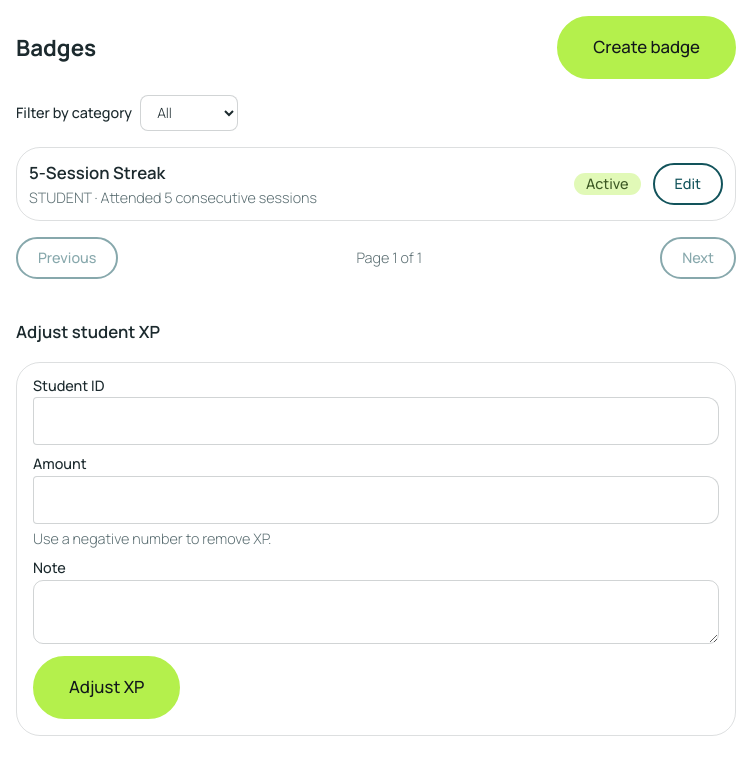
Test: BadgeManagementPage › XP adjustment rejects a zero amount
Type "s1" into the field labelled "Student ID" at (376, 421), box [33, 397, 719, 445]
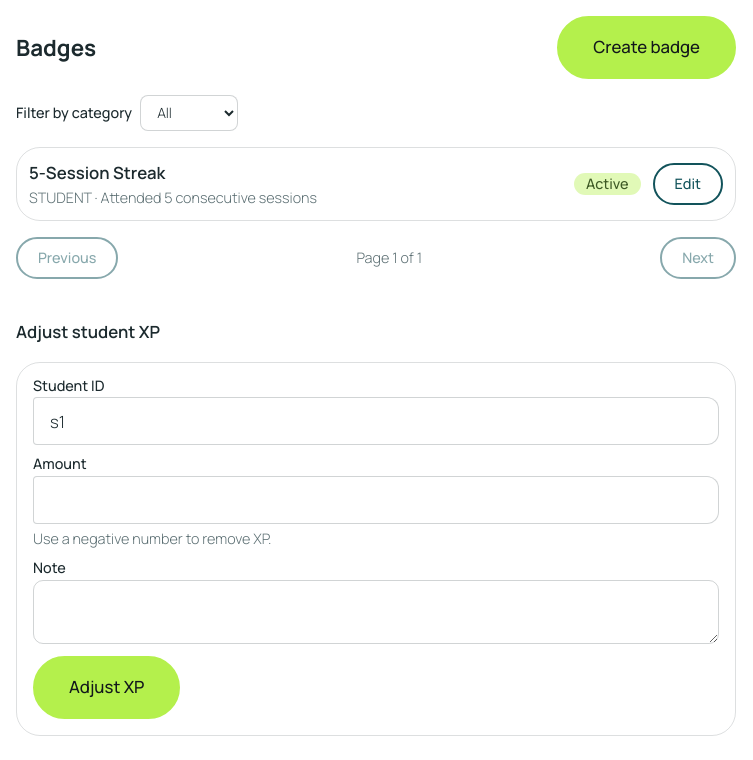
Type "0" into the number field labelled "Amount" at (376, 500), box [33, 476, 719, 524]
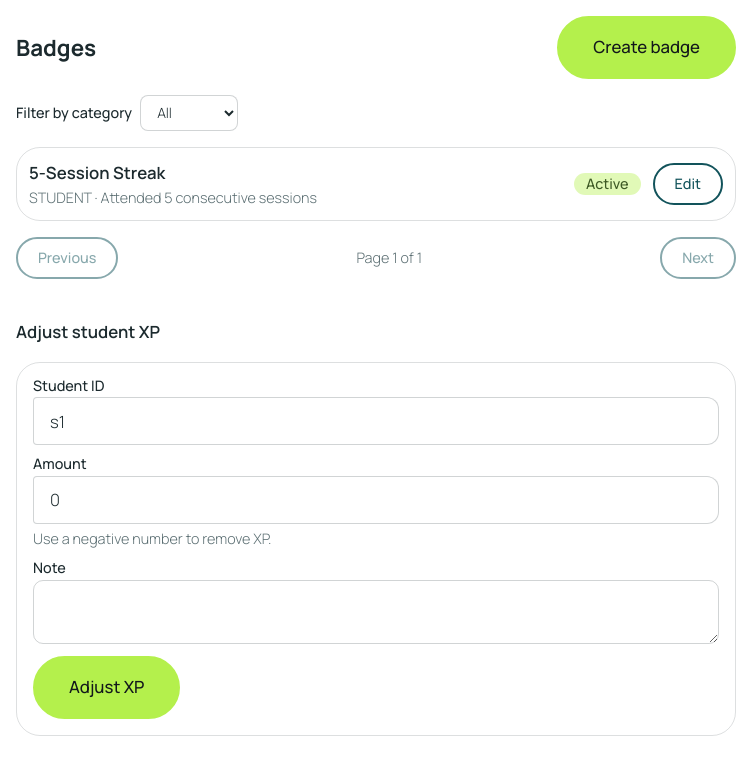
Type "Correction" into the text box labelled "Note" at (376, 612), box [33, 580, 719, 644]
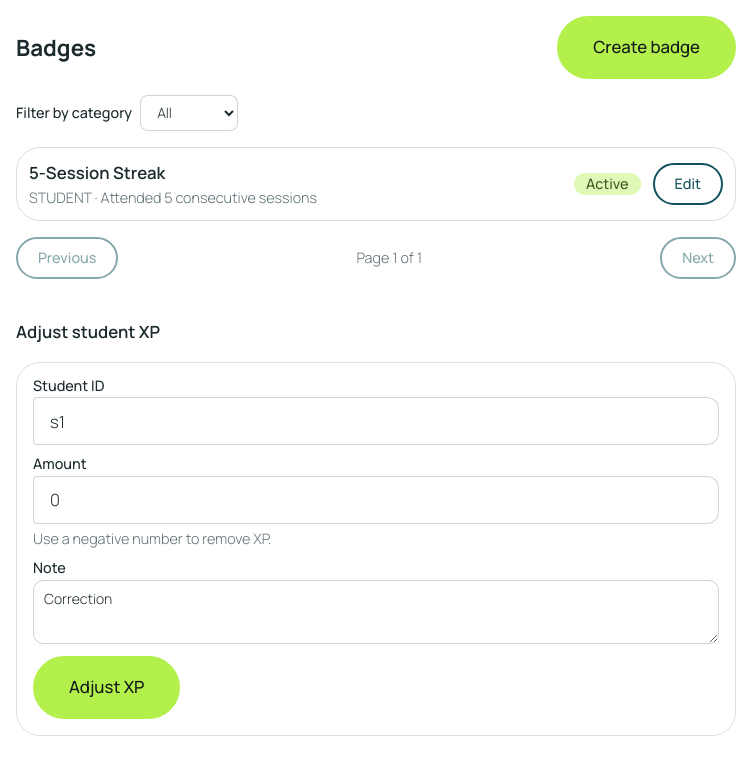
Click the button "Adjust XP" at (107, 687), box [33, 656, 180, 719]
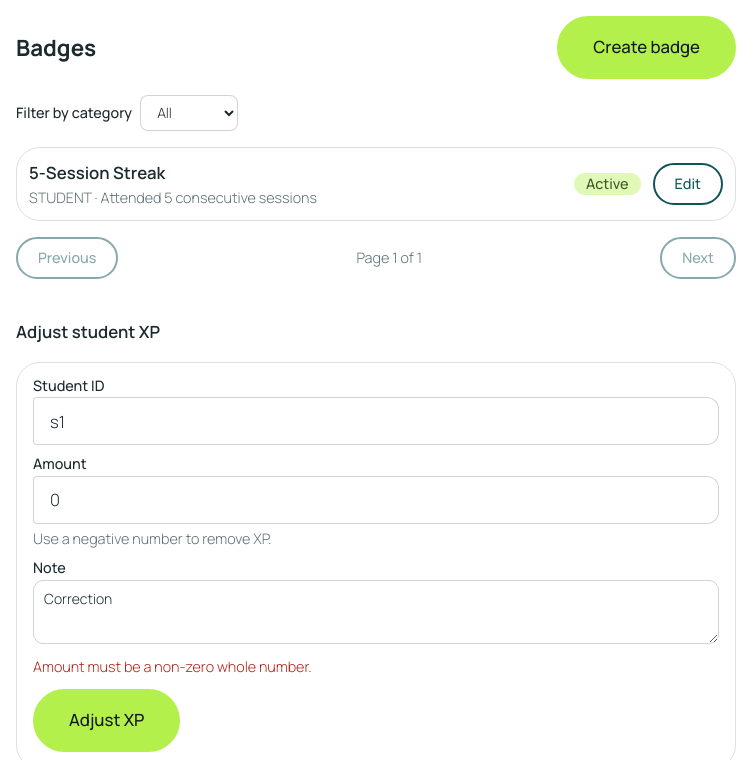
Expected: the message shows "non-zero", [33, 657, 312, 676]
